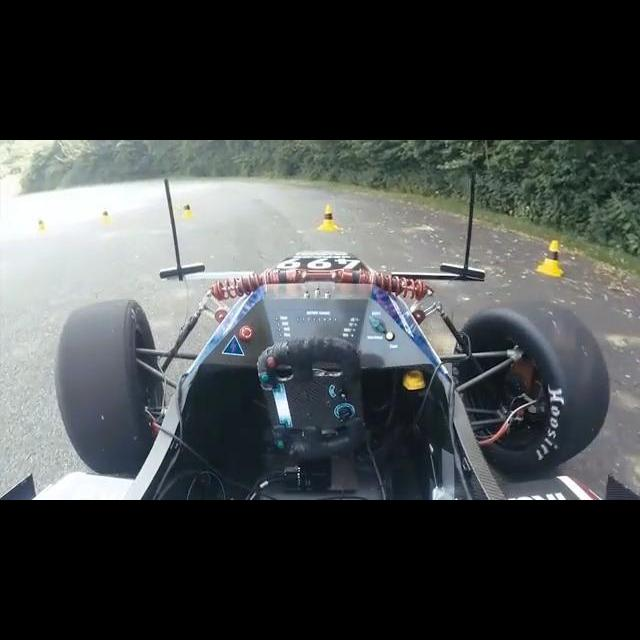Safety Cone: (535, 237, 563, 278), (319, 203, 344, 232), (181, 201, 194, 222), (99, 210, 112, 228), (36, 219, 45, 234)
vehicle: (0, 168, 640, 500)
